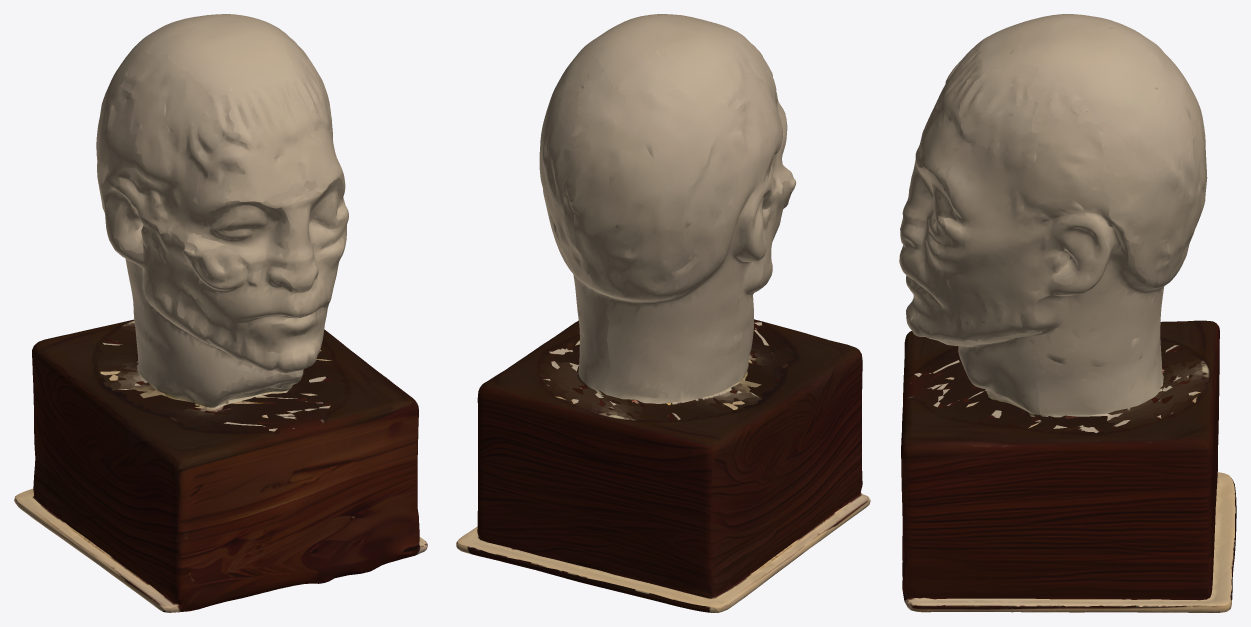
3 views of the same model, side by side, from view 1: azimuth 30°, elevation 25°; view 2: azimuth 150°, elevation 25°; view 3: azimuth 270°, elevation 25° (orthographic). The views are drawn at different scales.
Visible parts, largest first — view 1: textured_mesh; view 2: textured_mesh; view 3: textured_mesh.
Part boxes in pixels (x1=…): textured_mesh: x1=14, y1=14, x2=427, y2=612; textured_mesh: x1=456, y1=14, x2=870, y2=612; textured_mesh: x1=899, y1=14, x2=1236, y2=612.
Bounding box in the file's own units: 1.12 × 2 × 1.17.
1 material, 1 textured.
